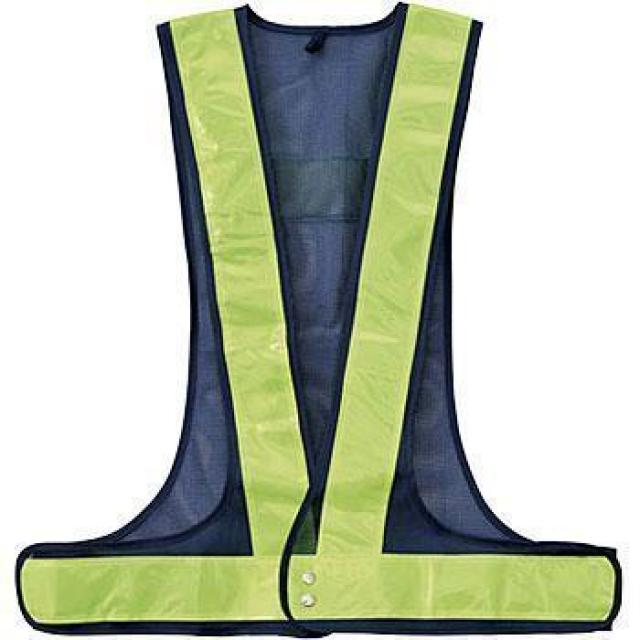Vest: (6, 0, 624, 638)
